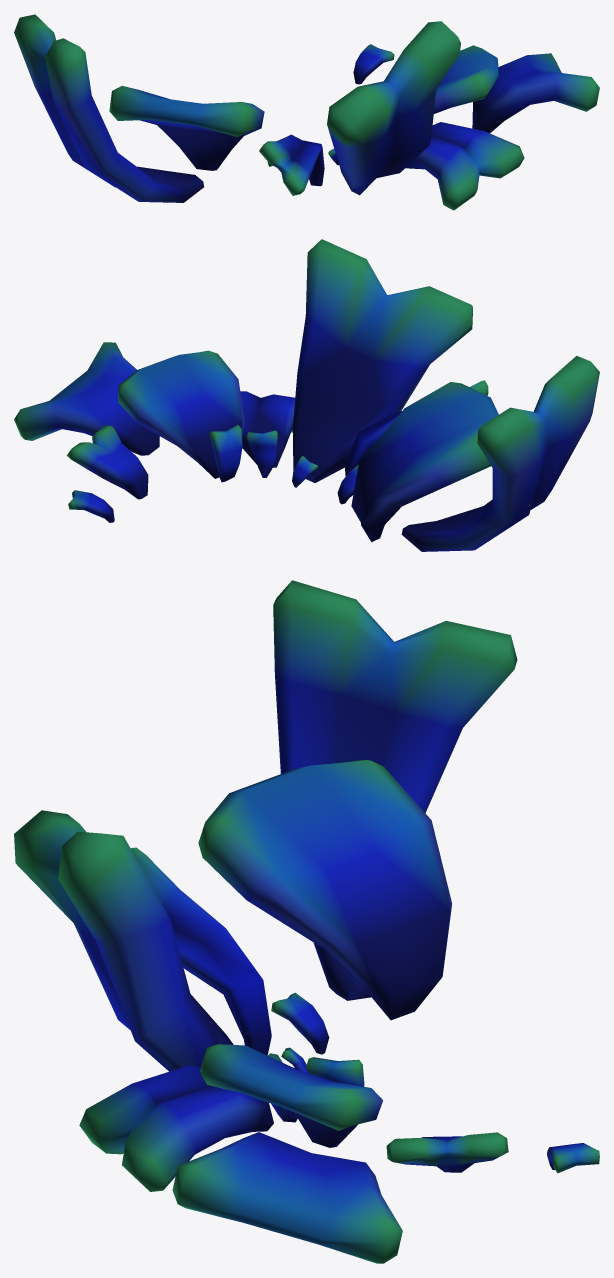
Rendered from Alien_Grass04.fbx.
3 views of the same model, one above another, from view 1: azimuth 30°, elevation 25°; view 2: azimuth 150°, elevation 25°; view 3: azimuth 270°, elevation 25° (orthographic). The views are drawn at different scales.
Parts seen in each view (by area): view 1: Alien_Grass04; view 2: Alien_Grass04; view 3: Alien_Grass04.
Boxes of the visible parts, left/top/right/bottom form: Alien_Grass04: left=14, top=14, right=599, bottom=210; Alien_Grass04: left=14, top=239, right=599, bottom=551; Alien_Grass04: left=14, top=580, right=599, bottom=1263.
Size of the model in its own units: 7213 by 2552 by 4337.
